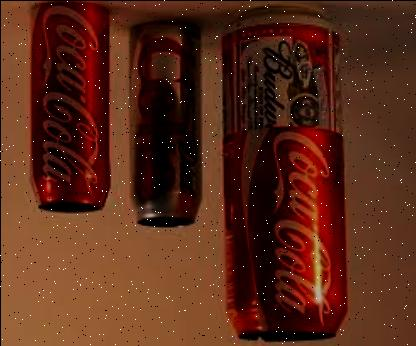Can: (220, 8, 348, 339), (30, 1, 110, 211), (129, 20, 201, 226)
